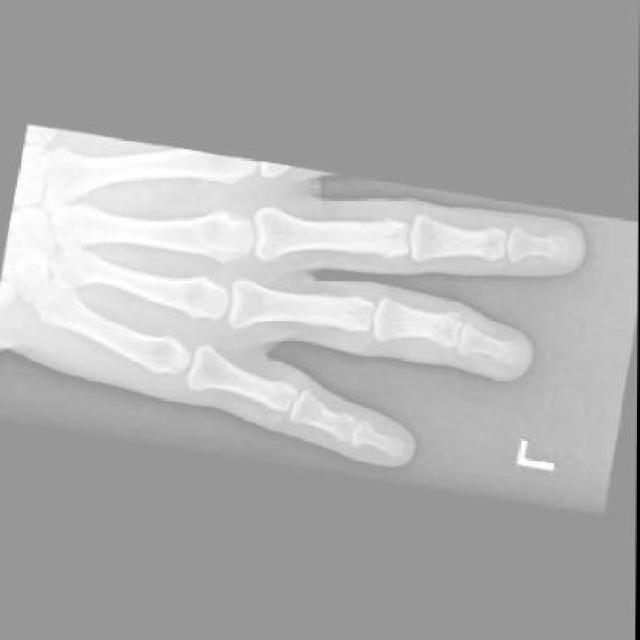Fracture: (432, 310, 469, 353)
